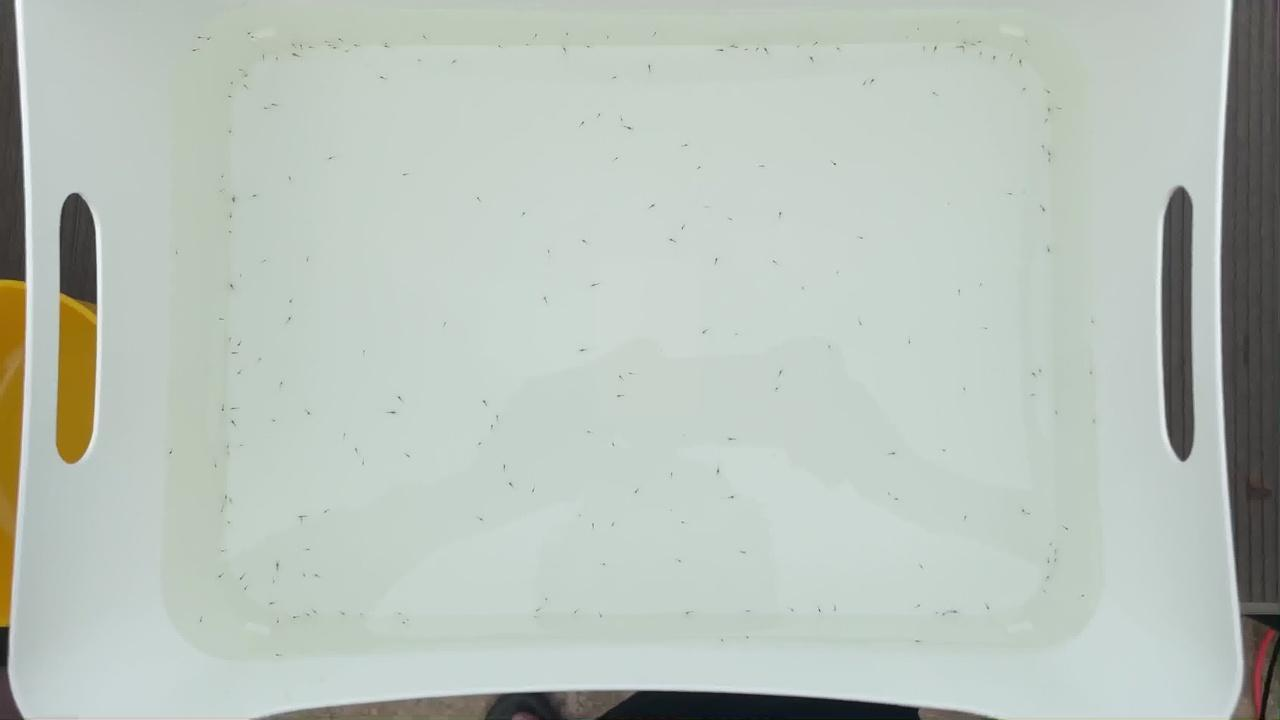shrimp: (1064, 523, 1077, 531), (947, 606, 960, 614), (917, 561, 930, 569), (1033, 367, 1046, 375), (980, 323, 993, 331), (853, 318, 866, 326), (825, 340, 838, 348), (726, 440, 739, 448), (1019, 90, 1032, 98), (1013, 57, 1026, 65), (955, 18, 968, 26), (929, 91, 942, 99), (866, 74, 879, 82), (672, 556, 685, 564), (607, 523, 620, 531), (587, 522, 600, 530), (470, 440, 483, 448), (510, 406, 523, 414), (580, 428, 593, 436), (648, 202, 661, 210), (680, 140, 693, 148), (333, 611, 346, 619), (308, 606, 321, 614), (272, 617, 285, 625), (226, 495, 239, 503), (560, 30, 573, 38), (414, 57, 427, 65), (325, 152, 338, 160), (275, 52, 288, 60), (239, 80, 252, 88), (228, 90, 241, 98), (249, 190, 262, 198), (234, 340, 247, 348), (1089, 418, 1101, 426), (1045, 151, 1057, 159), (812, 41, 824, 49), (635, 489, 647, 497), (701, 329, 713, 337), (756, 162, 768, 170), (701, 202, 713, 210), (695, 163, 707, 171), (274, 561, 286, 569), (297, 572, 309, 580), (219, 406, 231, 414), (579, 340, 591, 348), (192, 46, 204, 54), (225, 224, 237, 232), (1041, 578, 1054, 585), (1042, 563, 1055, 570), (1050, 557, 1063, 564), (1050, 550, 1063, 557), (1046, 536, 1059, 543), (1019, 508, 1032, 515), (931, 608, 944, 615), (913, 599, 926, 606), (893, 497, 906, 504), (886, 448, 899, 455), (938, 446, 951, 453), (958, 385, 971, 392), (1028, 372, 1041, 379), (1027, 394, 1040, 401), (1086, 373, 1099, 380), (1091, 317, 1104, 324), (974, 277, 987, 284), (951, 288, 964, 295), (905, 335, 918, 342), (775, 372, 788, 379), (773, 385, 786, 392), (713, 467, 726, 474), (728, 496, 741, 503), (736, 548, 749, 555), (745, 609, 758, 616), (741, 637, 754, 644), (718, 636, 731, 643), (680, 609, 693, 616), (809, 605, 822, 612), (1045, 247, 1058, 254), (1035, 206, 1048, 213), (1042, 118, 1055, 125), (1046, 104, 1059, 111), (1053, 107, 1066, 114), (1041, 89, 1054, 96), (988, 56, 1001, 63), (978, 56, 991, 63), (976, 39, 989, 46), (967, 42, 980, 49), (959, 36, 972, 43), (955, 45, 968, 52), (918, 45, 931, 52), (913, 28, 926, 35), (857, 82, 870, 89), (807, 57, 820, 64), (791, 44, 804, 51), (752, 44, 765, 51), (679, 519, 692, 526), (667, 473, 680, 480), (575, 515, 588, 522), (595, 614, 608, 621), (572, 606, 585, 613), (526, 612, 539, 619), (529, 605, 542, 612), (477, 519, 490, 526), (502, 483, 515, 490), (498, 466, 511, 473), (486, 419, 499, 426), (493, 412, 506, 419), (606, 443, 619, 450), (615, 392, 628, 399), (615, 374, 628, 381), (625, 367, 638, 374), (730, 331, 743, 338), (797, 284, 810, 291), (831, 271, 844, 278), (854, 236, 867, 243), (772, 259, 785, 266), (708, 256, 721, 263), (725, 214, 738, 221), (677, 226, 690, 233), (616, 155, 629, 162), (625, 121, 638, 128), (616, 114, 629, 121), (592, 114, 605, 121), (574, 119, 587, 126), (611, 78, 624, 85), (640, 66, 653, 73), (649, 28, 662, 35), (400, 622, 413, 629), (394, 611, 407, 618), (359, 611, 372, 618), (302, 610, 315, 617), (289, 613, 302, 620), (271, 651, 284, 658), (192, 616, 205, 623), (267, 600, 280, 607), (237, 582, 250, 589), (237, 574, 250, 581), (214, 571, 227, 578), (266, 575, 279, 582), (312, 568, 325, 575), (306, 545, 319, 552), (296, 517, 309, 524), (318, 508, 331, 515), (215, 546, 228, 553), (226, 518, 239, 525), (218, 504, 231, 511), (220, 491, 233, 498), (207, 459, 220, 466), (222, 441, 235, 448), (228, 414, 241, 421), (228, 406, 241, 413), (267, 419, 280, 426), (302, 410, 315, 417), (351, 443, 364, 450), (359, 457, 372, 464), (402, 452, 415, 459), (388, 405, 401, 412), (409, 401, 422, 408), (392, 392, 405, 399), (543, 294, 556, 301), (594, 278, 607, 285), (579, 234, 592, 241), (543, 247, 556, 254), (475, 191, 488, 198), (601, 32, 614, 39), (579, 44, 592, 51), (560, 49, 573, 56), (529, 32, 542, 39), (522, 41, 535, 48), (493, 42, 506, 49), (448, 59, 461, 66), (421, 33, 434, 40), (379, 40, 392, 47), (375, 72, 388, 79), (401, 174, 414, 181), (337, 45, 350, 52), (332, 30, 345, 37), (325, 41, 338, 48), (303, 45, 316, 52), (288, 44, 301, 51), (247, 35, 260, 42), (241, 32, 254, 39), (195, 33, 208, 40), (234, 64, 247, 71), (228, 76, 241, 83), (269, 100, 282, 107), (229, 129, 242, 136), (286, 177, 299, 184), (229, 195, 242, 202), (218, 183, 231, 190), (218, 175, 231, 182), (225, 212, 238, 219), (174, 248, 187, 255), (225, 282, 238, 289), (236, 272, 249, 279), (258, 255, 271, 262), (305, 253, 318, 260), (286, 295, 299, 302), (440, 320, 453, 327), (230, 365, 243, 372), (254, 355, 267, 362), (229, 352, 242, 359), (222, 337, 235, 344), (216, 315, 229, 322), (1077, 594, 1089, 601), (956, 516, 968, 523), (983, 602, 995, 609), (939, 614, 951, 621), (911, 639, 923, 646), (884, 493, 896, 500), (1050, 408, 1062, 415), (790, 606, 802, 613), (829, 604, 841, 611), (1006, 191, 1018, 198), (1045, 159, 1057, 166), (1039, 142, 1051, 149), (1005, 49, 1017, 56), (1022, 35, 1034, 42), (928, 44, 940, 51), (834, 44, 846, 51), (762, 42, 774, 49), (601, 560, 613, 567), (541, 598, 553, 605), (529, 488, 541, 495), (480, 400, 492, 407), (828, 160, 840, 167), (773, 212, 785, 219), (668, 236, 680, 243), (717, 46, 729, 53), (734, 44, 746, 51), (164, 449, 176, 456), (236, 441, 248, 448), (336, 433, 348, 440), (518, 214, 530, 221), (347, 40, 359, 47), (330, 45, 342, 52), (319, 38, 331, 45), (297, 45, 309, 52), (291, 52, 303, 59), (252, 53, 264, 60), (203, 37, 215, 44), (241, 68, 253, 75), (258, 105, 270, 112), (285, 317, 297, 324), (358, 348, 370, 355), (275, 377, 287, 384)
